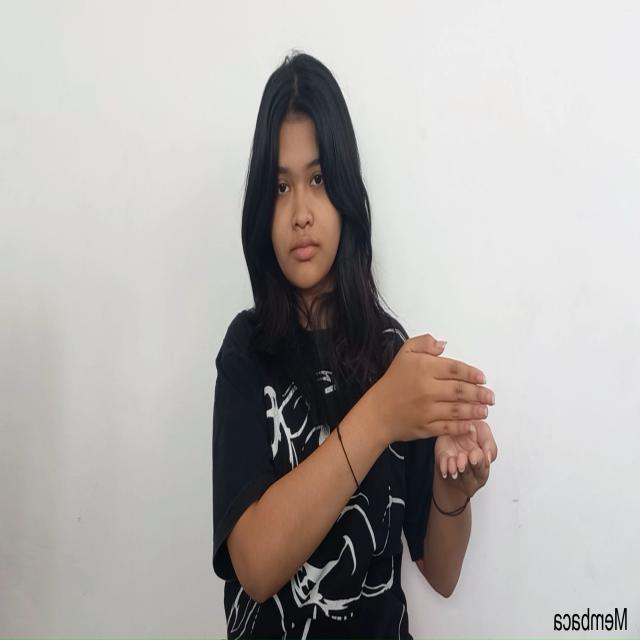Membaca -BISINDO-: (377, 330, 499, 504)
